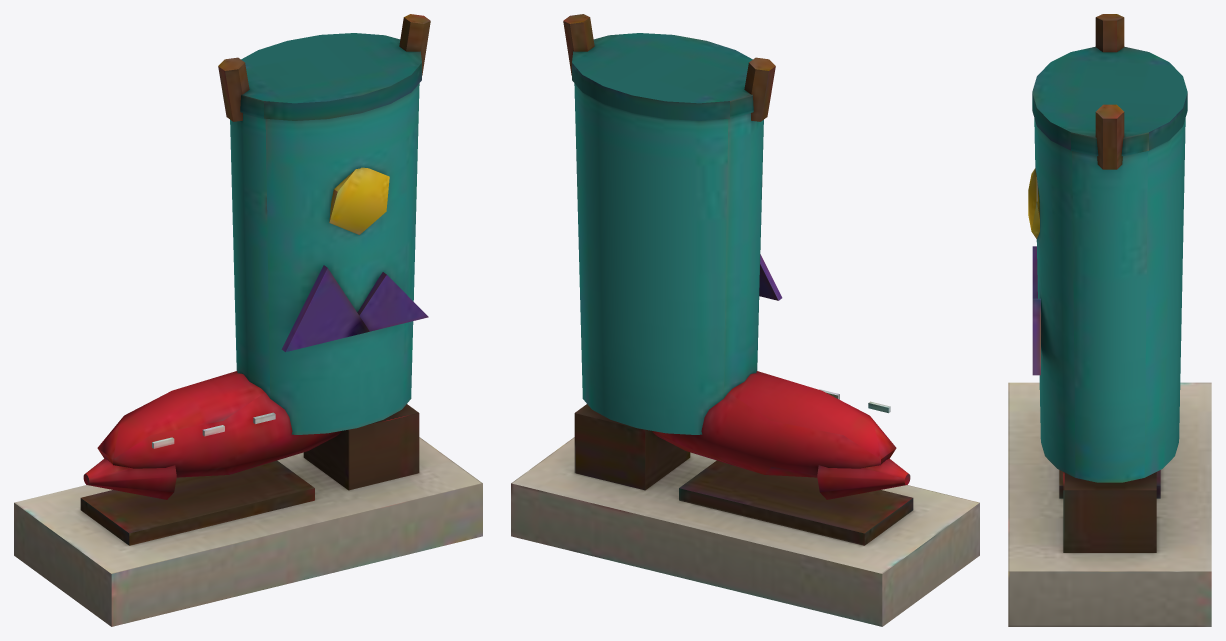
File: bota_gigante.glb
3 views of the same model, side by side, from view 1: azimuth 30°, elevation 25°; view 2: azimuth 150°, elevation 25°; view 3: azimuth 270°, elevation 25° (orthographic). The views are drawn at different scales.
Visible parts, largest first — view 1: bota_gigante; view 2: bota_gigante; view 3: bota_gigante.
Boxes of the visible parts, x1,y1,x2,y2 form: bota_gigante: [14, 14, 482, 626]; bota_gigante: [511, 14, 979, 626]; bota_gigante: [1008, 14, 1211, 626].
Bounding box in the file's own units: 2.2 × 2.76 × 1.
1 material, 1 textured.
